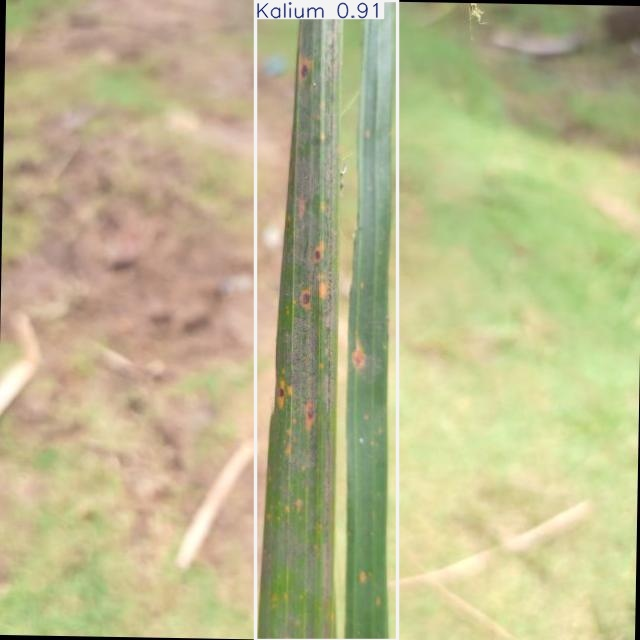Kalium: (255, 0, 398, 640)
